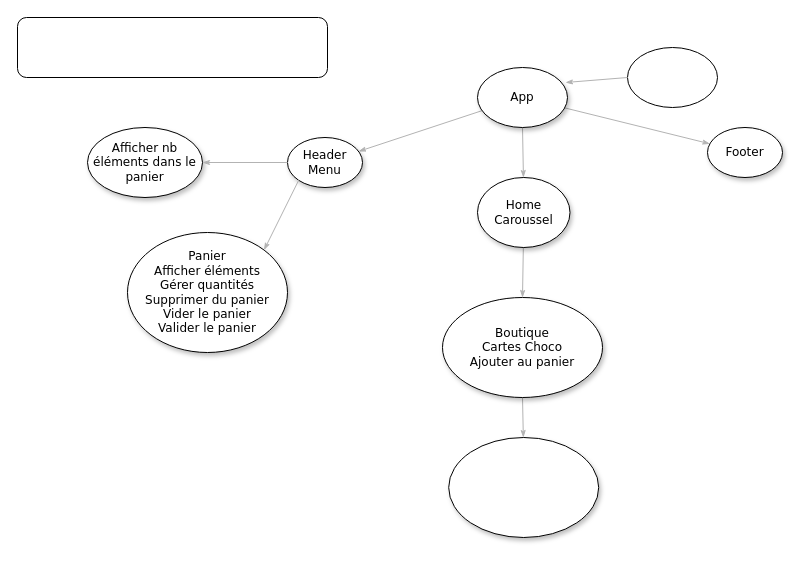
The diagram is 806 pixels wide and 562 high, and some of its shapes have lost their labels. Here are the shapes that lost their labels. From the top down, the centre of each, then its label:
(x=172, y=47): Diagramme fonctionnel Choco Pap
(x=672, y=77): Init Panier Context
(x=524, y=488): Détails Choco Modifier quantité
